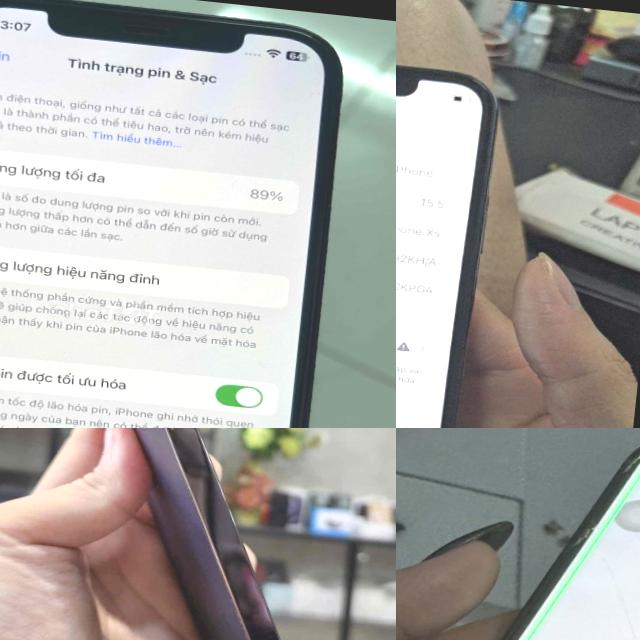gen_12_13: (0, 0, 354, 428)
gen_14: (0, 428, 372, 640)
gen_x_xs: (396, 34, 512, 428), (499, 446, 640, 640)
screen_defect: (463, 437, 639, 639)
